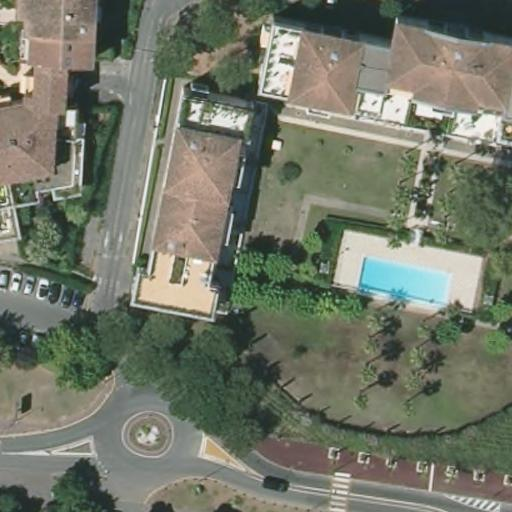pool: (355, 251, 453, 307)
